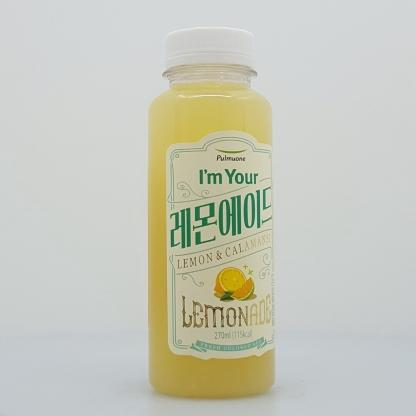----------------270ML: (147, 26, 275, 400)
